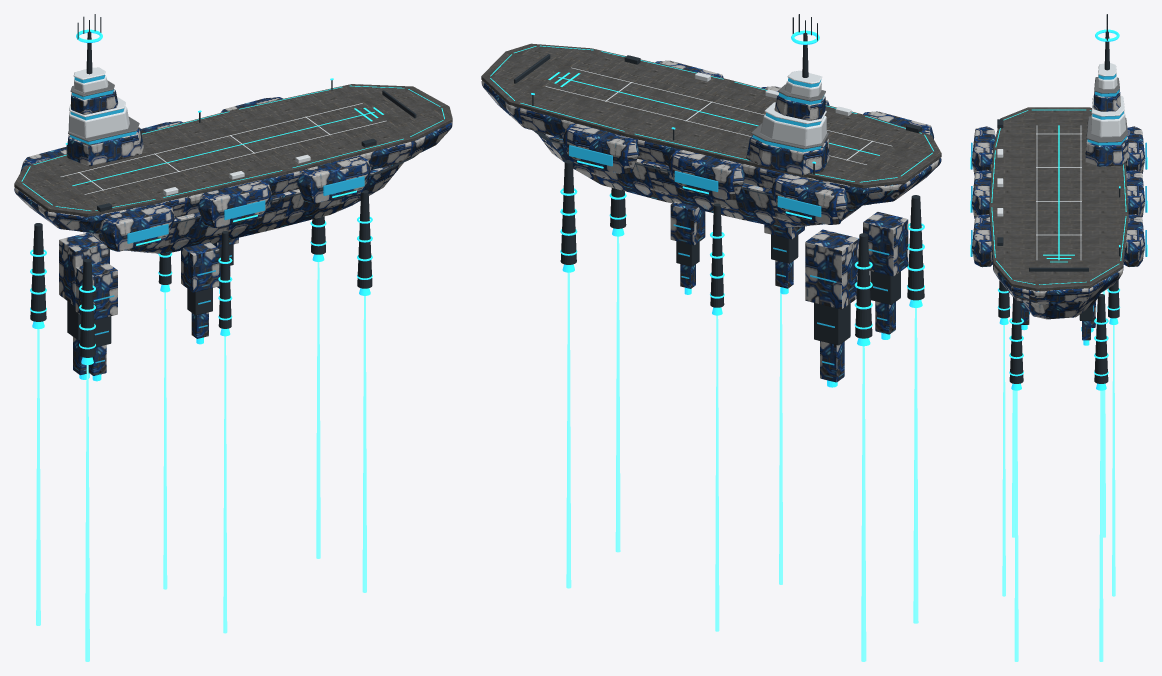
Rendered from vanguard-ozone-base-v3.glb.
3 views of the same model, side by side, from view 1: azimuth 30°, elevation 25°; view 2: azimuth 150°, elevation 25°; view 3: azimuth 270°, elevation 25° (orthographic). The views are drawn at different scales.
Visible parts, largest first — view 1: vanguard_ozone_base__lod0__Vanguard deck surface, vanguard_ozone_base__lod0__Vanguard hull plating, vanguard_ozone_base__lod0__Vanguard structural frame, vanguard_ozone_base__lod0__Vanguard lift beam, vanguard_ozone_base__lod0__Vanguard emissive guidance, vanguard_ozone_base__lod0__Vanguard light armor, vanguard_ozone_base__lod0__Vanguard recessed glazing; view 2: vanguard_ozone_base__lod0__Vanguard hull plating, vanguard_ozone_base__lod0__Vanguard deck surface, vanguard_ozone_base__lod0__Vanguard structural frame, vanguard_ozone_base__lod0__Vanguard lift beam, vanguard_ozone_base__lod0__Vanguard emissive guidance, vanguard_ozone_base__lod0__Vanguard light armor, vanguard_ozone_base__lod0__Vanguard recessed glazing; view 3: vanguard_ozone_base__lod0__Vanguard deck surface, vanguard_ozone_base__lod0__Vanguard hull plating, vanguard_ozone_base__lod0__Vanguard lift beam, vanguard_ozone_base__lod0__Vanguard structural frame, vanguard_ozone_base__lod0__Vanguard light armor, vanguard_ozone_base__lod0__Vanguard emissive guidance, vanguard_ozone_base__lod0__Vanguard recessed glazing.
Part boxes in pixels (left/top/right/bottom): vanguard_ozone_base__lod0__Vanguard deck surface: left=14, top=84, right=452, bottom=216; vanguard_ozone_base__lod0__Vanguard hull plating: left=14, top=80, right=452, bottom=375; vanguard_ozone_base__lod0__Vanguard structural frame: left=30, top=14, right=418, bottom=357; vanguard_ozone_base__lod0__Vanguard lift beam: left=36, top=262, right=366, bottom=661; vanguard_ozone_base__lod0__Vanguard emissive guidance: left=21, top=29, right=444, bottom=381; vanguard_ozone_base__lod0__Vanguard light armor: left=60, top=67, right=386, bottom=195; vanguard_ozone_base__lod0__Vanguard recessed glazing: left=70, top=75, right=364, bottom=363; vanguard_ozone_base__lod0__Vanguard hull plating: left=481, top=60, right=941, bottom=382; vanguard_ozone_base__lod0__Vanguard deck surface: left=481, top=43, right=941, bottom=188; vanguard_ozone_base__lod0__Vanguard structural frame: left=514, top=14, right=924, bottom=345; vanguard_ozone_base__lod0__Vanguard lift beam: left=566, top=236, right=918, bottom=661; vanguard_ozone_base__lod0__Vanguard emissive guidance: left=490, top=30, right=933, bottom=387; vanguard_ozone_base__lod0__Vanguard light armor: left=545, top=67, right=892, bottom=164; vanguard_ozone_base__lod0__Vanguard recessed glazing: left=569, top=78, right=889, bottom=365; vanguard_ozone_base__lod0__Vanguard deck surface: left=989, top=107, right=1128, bottom=290; vanguard_ozone_base__lod0__Vanguard hull plating: left=972, top=77, right=1145, bottom=340; vanguard_ozone_base__lod0__Vanguard lift beam: left=1002, top=290, right=1115, bottom=661; vanguard_ozone_base__lod0__Vanguard structural frame: left=997, top=14, right=1120, bottom=383; vanguard_ozone_base__lod0__Vanguard light armor: left=997, top=63, right=1125, bottom=259; vanguard_ozone_base__lod0__Vanguard emissive guidance: left=970, top=29, right=1147, bottom=390; vanguard_ozone_base__lod0__Vanguard recessed glazing: left=971, top=74, right=1146, bottom=331.
Size of the model in its own units: 860 by 1204 by 356.
7 materials, 2 textured.
